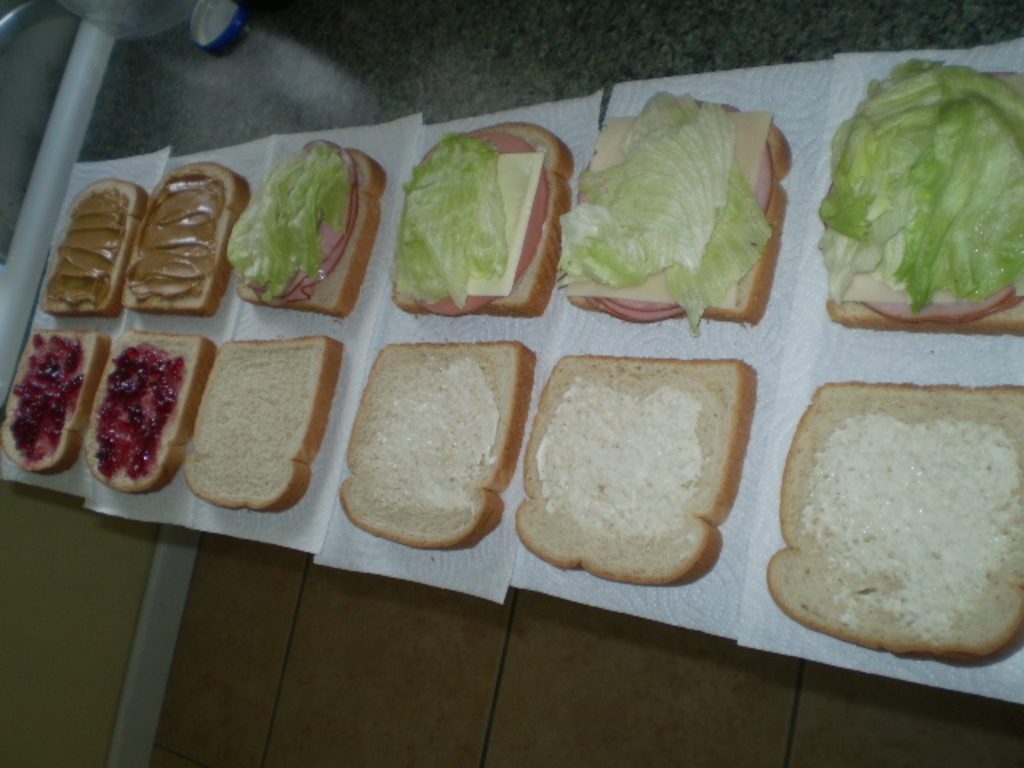sandwich: (0, 53, 1022, 670)
